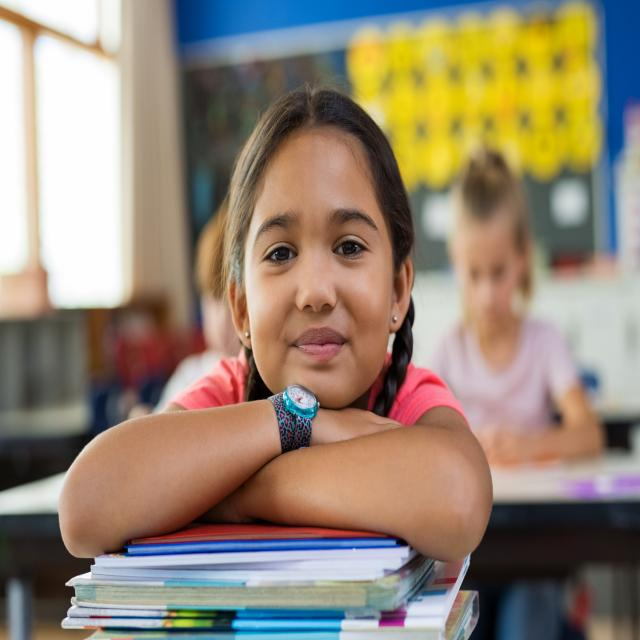child: (56, 87, 498, 565)
